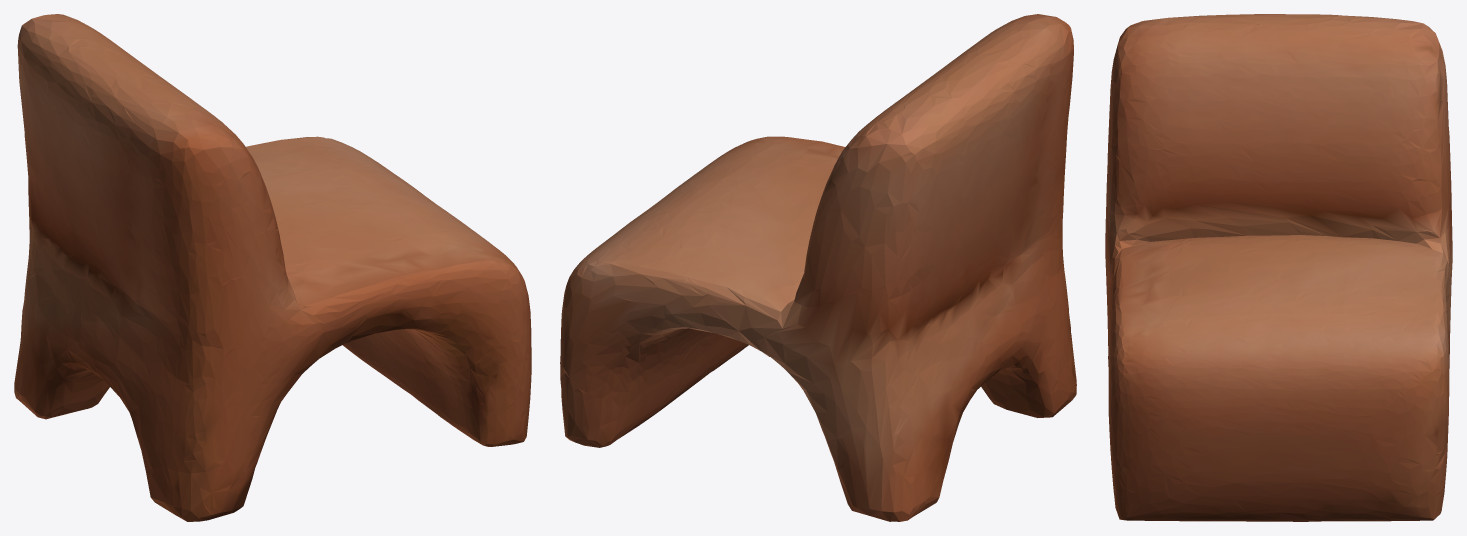
File: low-chair-hy21.glb
3 views of the same model, side by side, from view 1: azimuth 30°, elevation 25°; view 2: azimuth 150°, elevation 25°; view 3: azimuth 270°, elevation 25° (orthographic). The views are drawn at different scales.
Size of the model in its own units: 6.06e-05 by 6.02e-05 by 5.28e-05.
